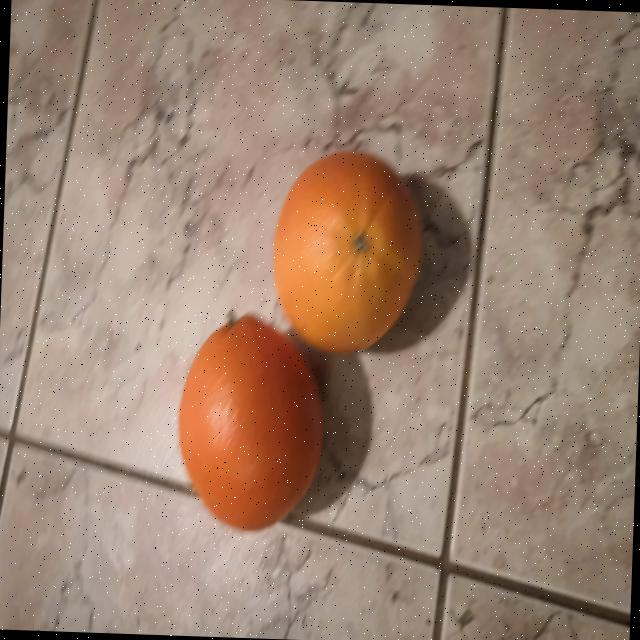orange: (178, 314, 323, 530), (273, 150, 423, 351)
